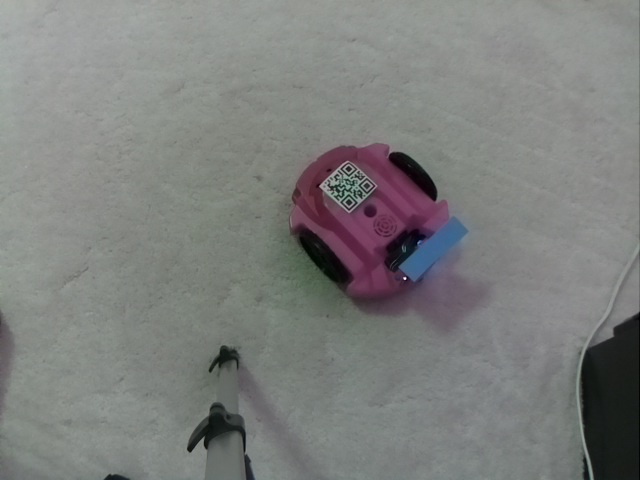chassis: (289, 139, 460, 303)
qr: (320, 160, 378, 213)
